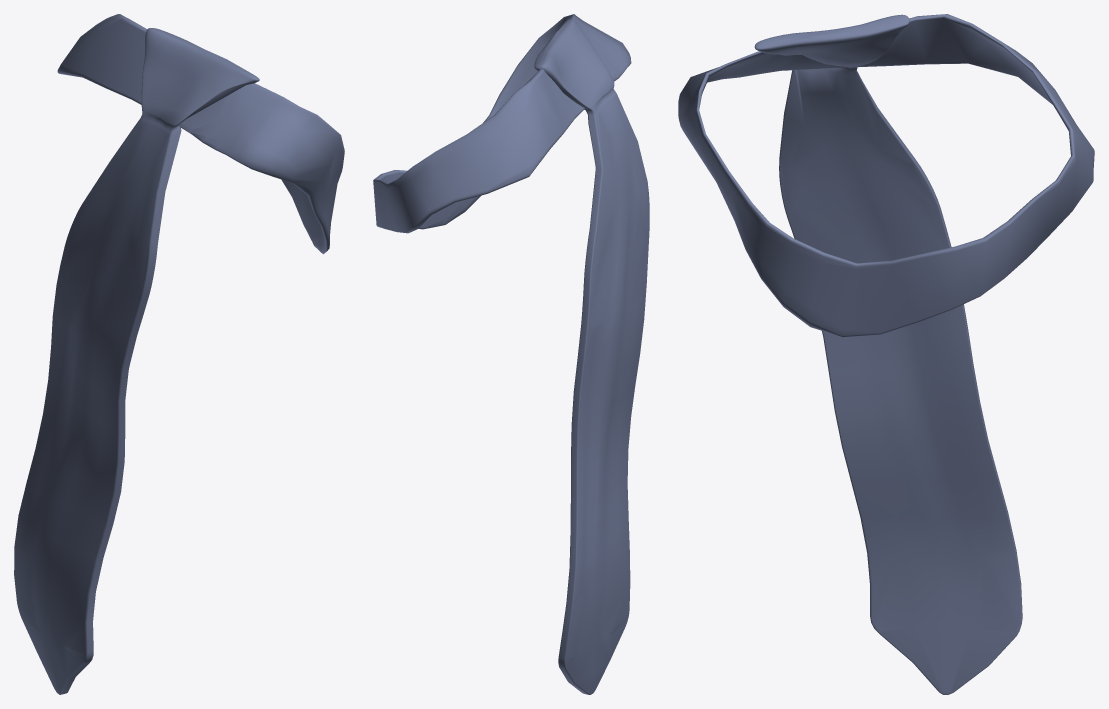
The model's file is tie.fbx.
3 views of the same model, side by side, from view 1: azimuth 30°, elevation 25°; view 2: azimuth 150°, elevation 25°; view 3: azimuth 270°, elevation 25° (orthographic). The views are drawn at different scales.
Parts seen in each view (by area): view 1: Plane, Circle.001; view 2: Plane, Circle.001; view 3: Plane, Circle.001.
Boxes of the visible parts, left/top/right/bottom form: Plane: left=14, top=28, right=259, bottom=694; Circle.001: left=57, top=14, right=344, bottom=254; Plane: left=534, top=19, right=649, bottom=694; Circle.001: left=373, top=14, right=631, bottom=233; Plane: left=754, top=14, right=1022, bottom=694; Circle.001: left=678, top=14, right=1094, bottom=337.
Size of the model in its own units: 390 by 1027 by 543.
